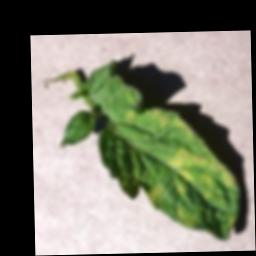Leaf_Mold: (121, 89, 241, 244)
